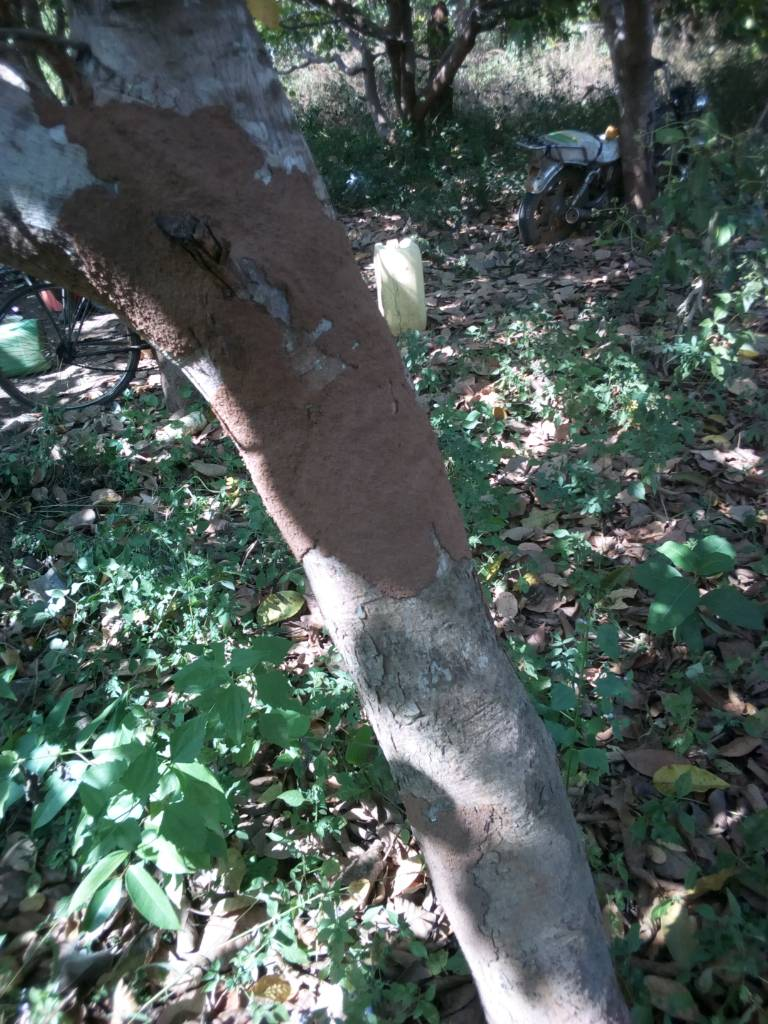Termites: (96, 102, 363, 341), (233, 346, 469, 594)
